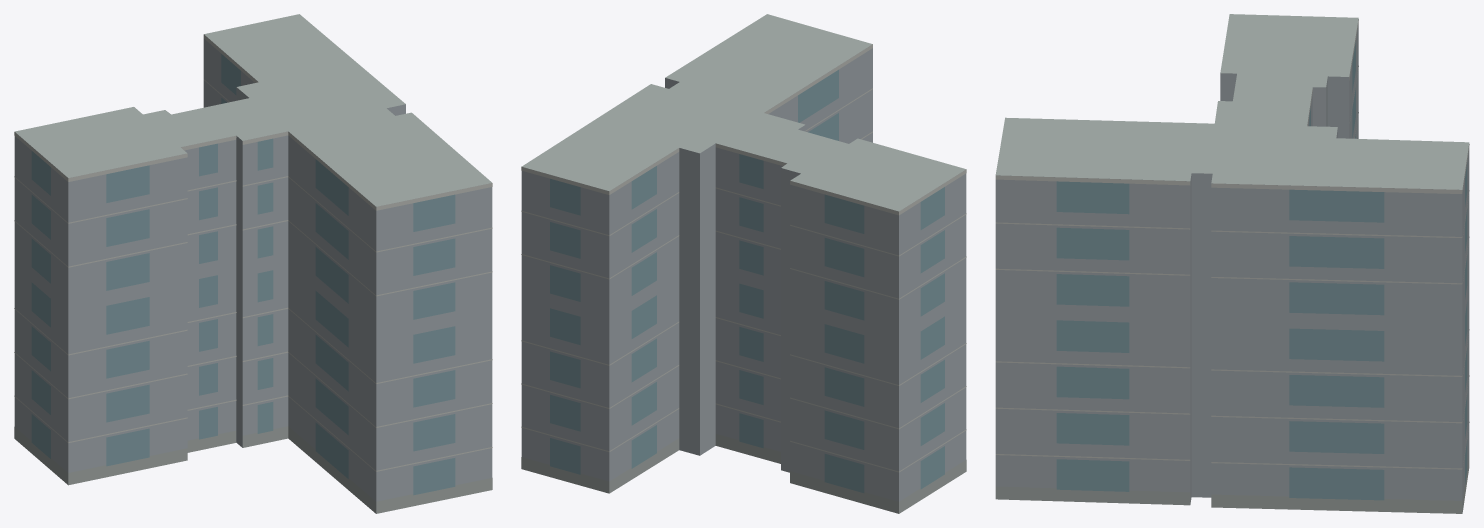
The model's file is survey-upis-32760569.glb.
The picture shows the model from 3 angles, left to right: view 1: azimuth 30°, elevation 25°; view 2: azimuth 150°, elevation 25°; view 3: azimuth 270°, elevation 25°; orthographic projection. The views are drawn at different scales.
Parts seen in each view (by area): view 1: survey-upis-32760569.tmp; view 2: survey-upis-32760569.tmp; view 3: survey-upis-32760569.tmp.
Boxes of the visible parts, left/top/right/bottom form: survey-upis-32760569.tmp: left=14, top=14, right=492, bottom=513; survey-upis-32760569.tmp: left=521, top=14, right=966, bottom=513; survey-upis-32760569.tmp: left=995, top=14, right=1469, bottom=513.
Size of the model in its own units: 21.68 by 18.6 by 24.67.
